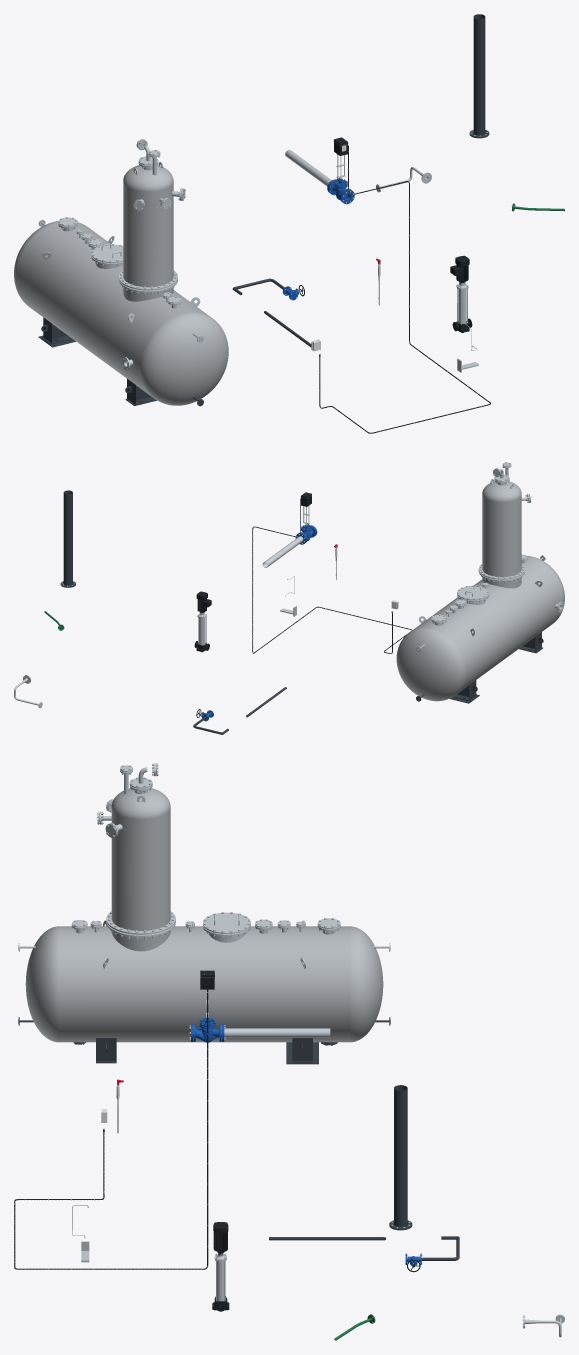
File: s4000-1-Dh4nZlOn.glb
The picture shows the model from 3 angles, top to bottom: view 1: azimuth 30°, elevation 25°; view 2: azimuth 150°, elevation 25°; view 3: azimuth 270°, elevation 25°; orthographic projection. The views are drawn at different scales.
Visible parts, largest first — view 1: deaerator CAD solid 56, deaerator CAD solid 257, bdv_vent / dark, gpz_drive_cable / black; view 2: deaerator CAD solid 56, deaerator CAD solid 257, bdv_vent / dark, gpz_drive_cable / black, deaerator CAD solid 408; view 3: deaerator CAD solid 56, deaerator CAD solid 257, bdv_vent / dark, gpz_drive_cable / black, steam_delivery / steel, deaerator CAD solid 408.
Part boxes in pixels (x1,y1,x2,y2): deaerator CAD solid 56: (14,221,228,405); deaerator CAD solid 257: (123,165,173,287); bdv_vent / dark: (469,14,489,138); gpz_drive_cable / black: (319,145,490,433); deaerator CAD solid 56: (396,556,564,701); deaerator CAD solid 257: (482,481,521,577); bdv_vent / dark: (60,490,75,587); gpz_drive_cable / black: (252,498,412,653); deaerator CAD solid 408: (457,586,489,600); deaerator CAD solid 56: (25,926,383,1042); deaerator CAD solid 257: (111,788,170,930); bdv_vent / dark: (389,1085,412,1230); gpz_drive_cable / black: (14,983,208,1269); steam_delivery / steel: (224,1028,330,1037); deaerator CAD solid 408: (203,912,250,933).
Size of the model in its own units: 9.07 by 4.78 by 6.74.
